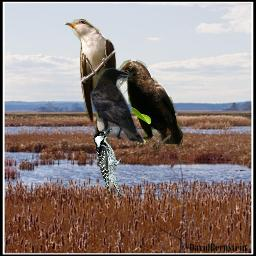Crow: (114, 59, 183, 152), (90, 68, 144, 145)
Cuckoo: (64, 19, 117, 161)
Woodpecker: (93, 128, 121, 197)
